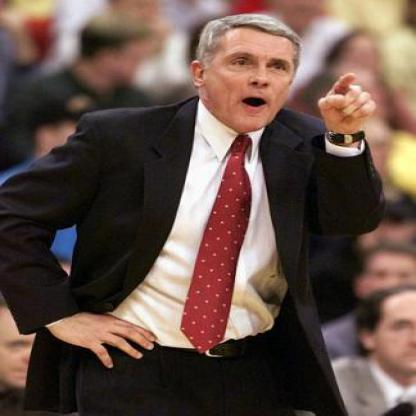face: (206, 16, 302, 134), (1, 306, 53, 392), (115, 28, 162, 93)
